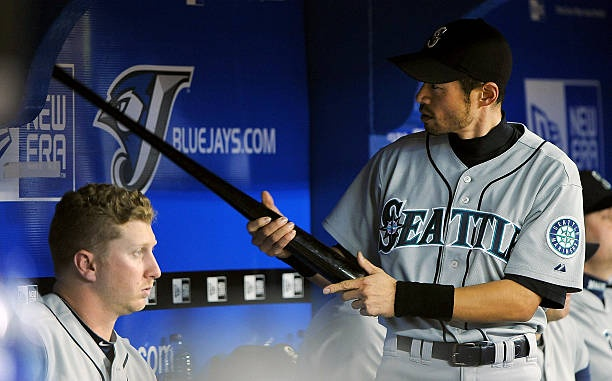bita: (50, 65, 363, 287)
